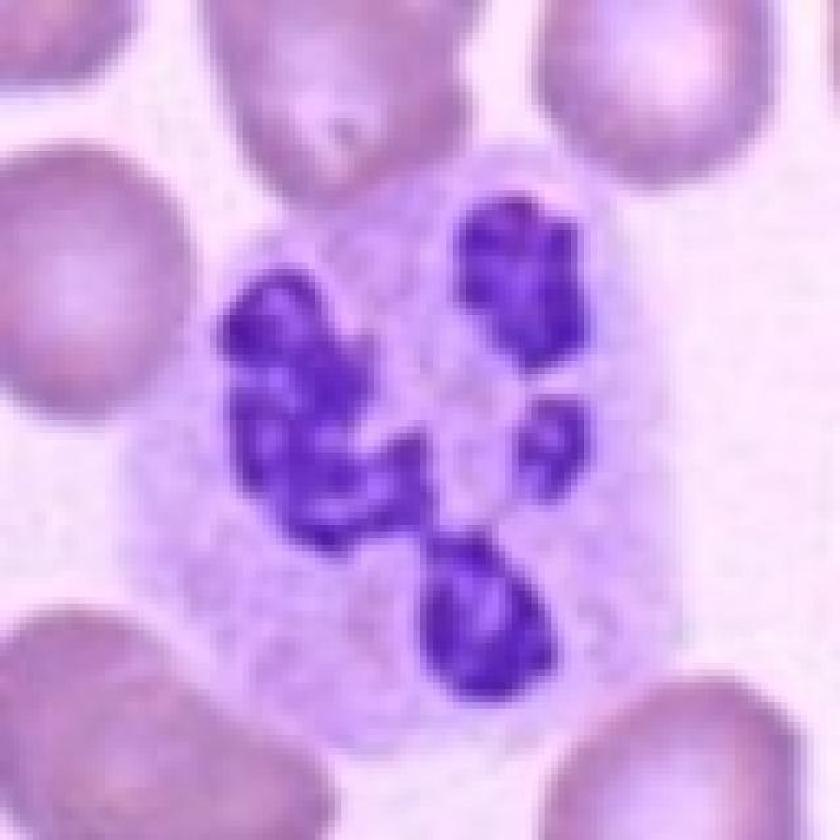neutrophil: (91, 83, 709, 684)
